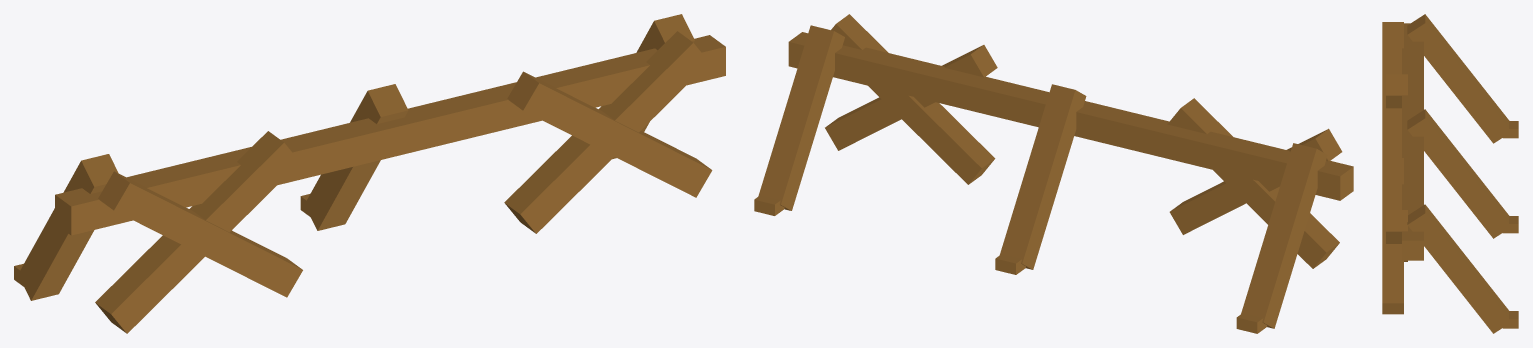
Rendered from SM_ObraPuertaApuntalada_v3_10m_LOD1.fbx.
3 views of the same model, side by side, from view 1: azimuth 30°, elevation 25°; view 2: azimuth 150°, elevation 25°; view 3: azimuth 270°, elevation 25° (orthographic). The views are drawn at different scales.
Visible parts, largest first — view 1: SM_obra_curso_v37_LOD1; view 2: SM_obra_curso_v37_LOD1; view 3: SM_obra_curso_v37_LOD1.
Boxes of the visible parts, x1,y1,x2,y2 form: SM_obra_curso_v37_LOD1: (14,14,725,333); SM_obra_curso_v37_LOD1: (754,14,1353,333); SM_obra_curso_v37_LOD1: (1382,14,1518,333).
Size of the model in its own units: 8 by 2.07 by 2.12.
